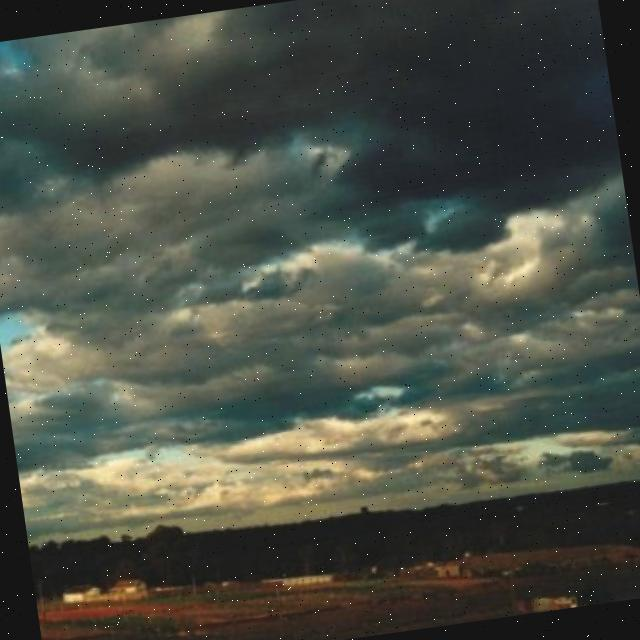St: (1, 1, 640, 530)
